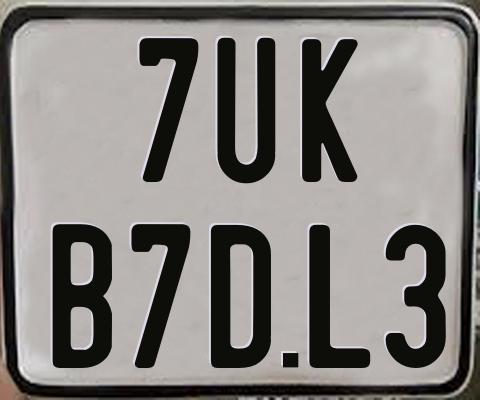3: (386, 223, 451, 370)
7: (136, 38, 199, 183), (129, 222, 190, 370)
B: (53, 223, 115, 367)
D: (211, 224, 271, 369)
K: (301, 36, 358, 184)
L: (309, 225, 373, 372)
U: (216, 36, 279, 186)
